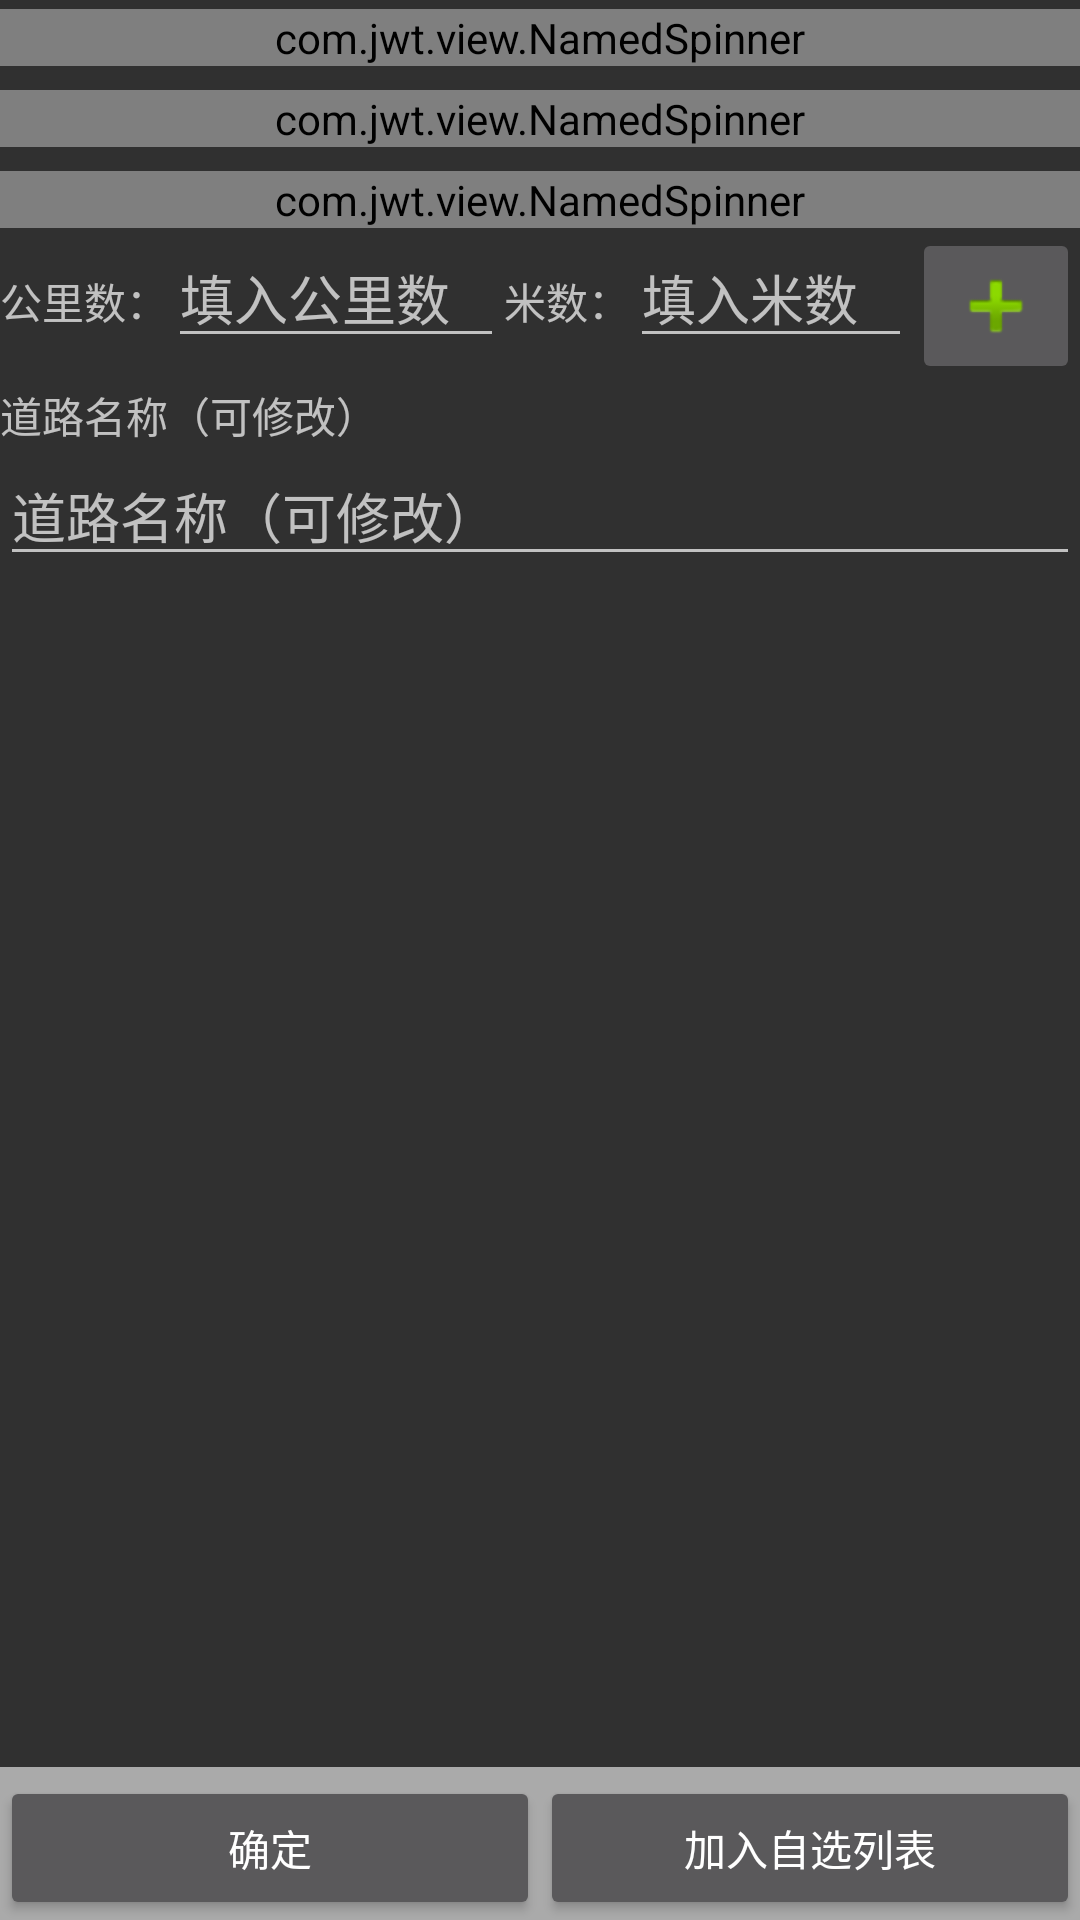

Icons on this 1080*1920 Android screen, each with its box as {"x1": x1, "y1": y1, "x2": x2, "y2": y2}:
add: {"x1": 924, "y1": 246, "x2": 1068, "y2": 366}
